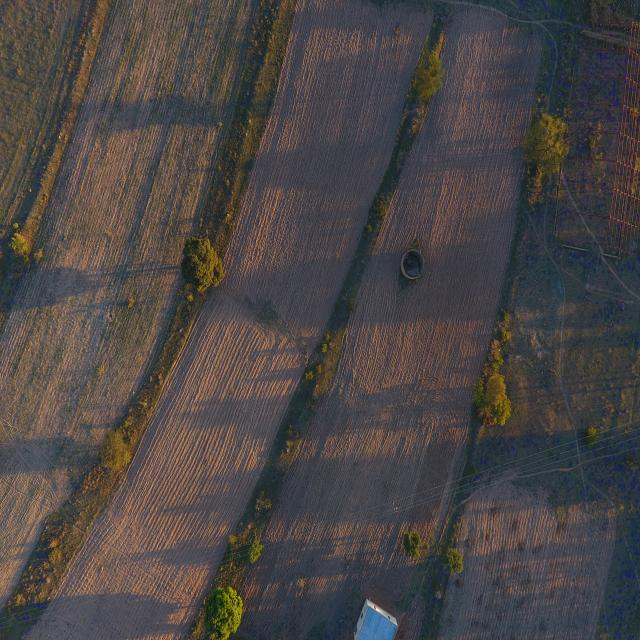boundaries: (10, 23, 301, 614), (194, 36, 465, 621), (413, 35, 585, 620), (2, 31, 120, 275)
